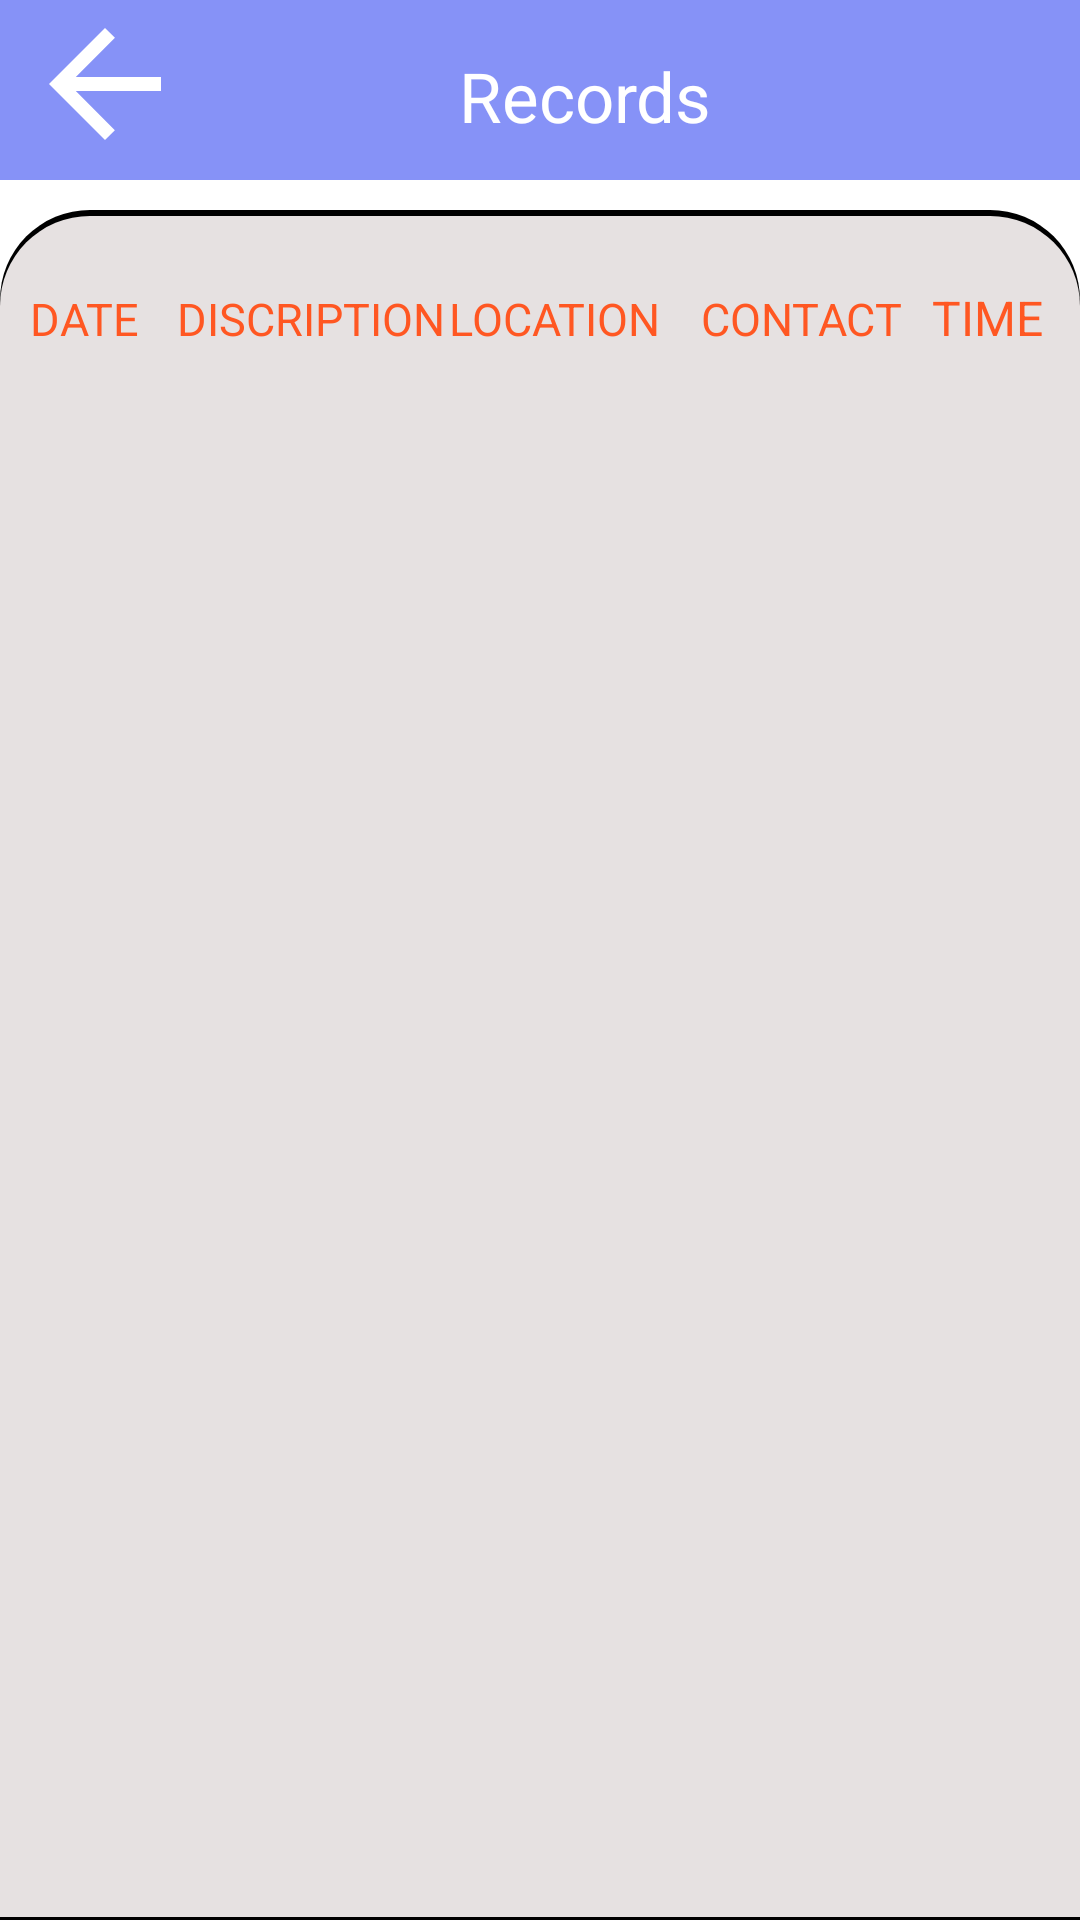

Screen size 1080 × 1920. Icon name, then its center in pixels as point (x, y):
back Btn: point (105, 84)
